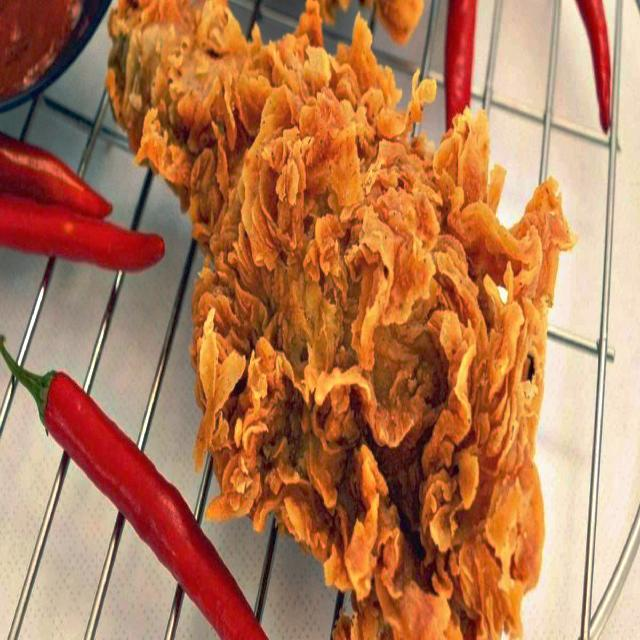fried_chicken: (109, 0, 549, 640)
